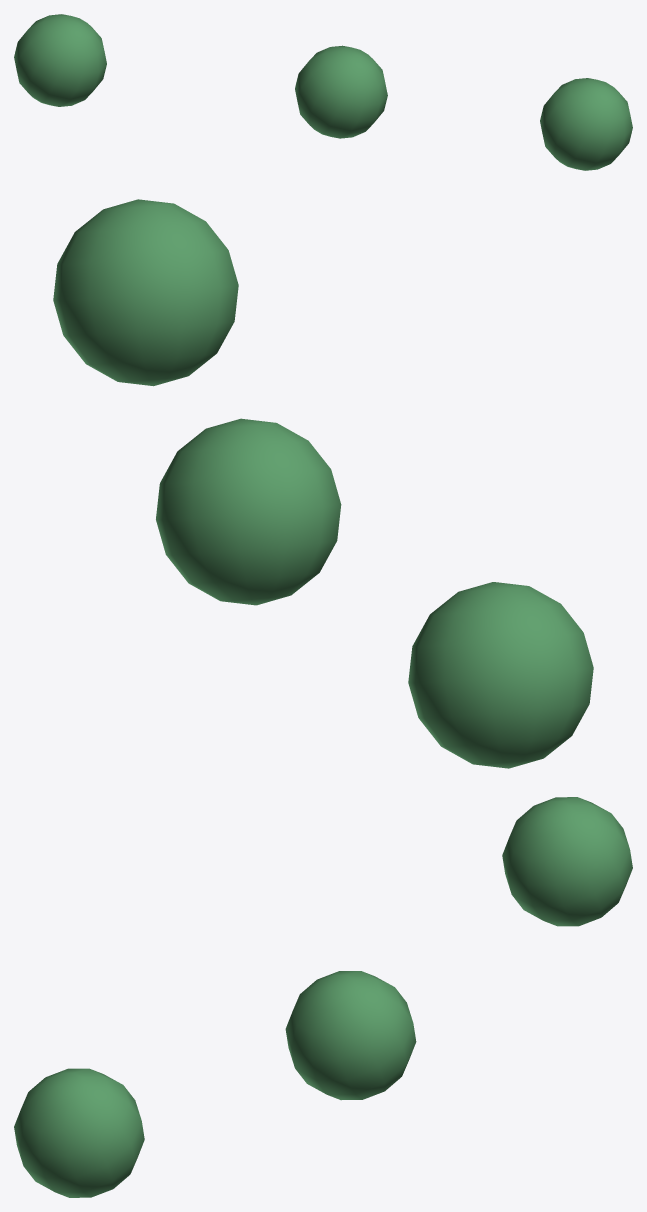
3 renders of one model, top to bottom at view 1: azimuth 30°, elevation 25°; view 2: azimuth 150°, elevation 25°; view 3: azimuth 270°, elevation 25°, orthographic. The views are drawn at different scales.
Visible parts, largest first — view 1: 左侧腹股沟浅淋巴结上外侧群; view 2: 左侧腹股沟浅淋巴结上外侧群; view 3: 左侧腹股沟浅淋巴结上外侧群.
Boxes of the visible parts, x1=… form: 左侧腹股沟浅淋巴结上外侧群: x1=14, y1=14, x2=632, y2=170; 左侧腹股沟浅淋巴结上外侧群: x1=53, y1=199, x2=593, y2=768; 左侧腹股沟浅淋巴结上外侧群: x1=14, y1=797, x2=632, y2=1197.
Size of the model in its own units: 0.0204 by 0.00493 by 0.018.
